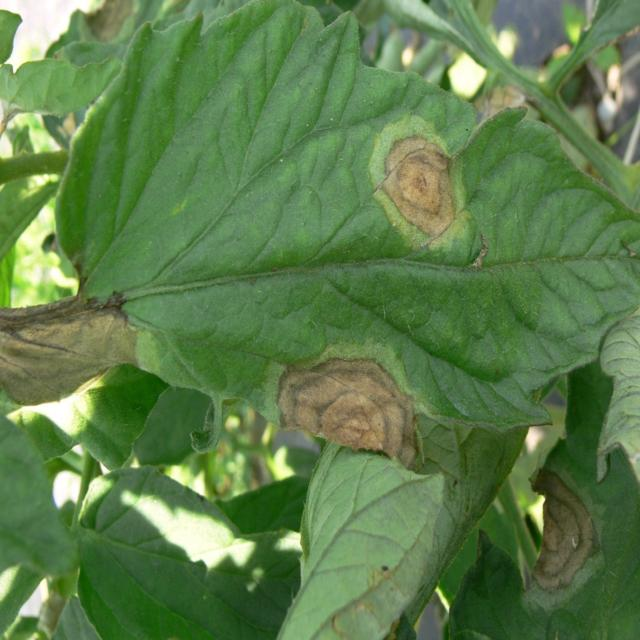Late_blight: (260, 339, 425, 466), (4, 293, 144, 403), (364, 112, 470, 255), (522, 466, 604, 609), (79, 1, 136, 48)
